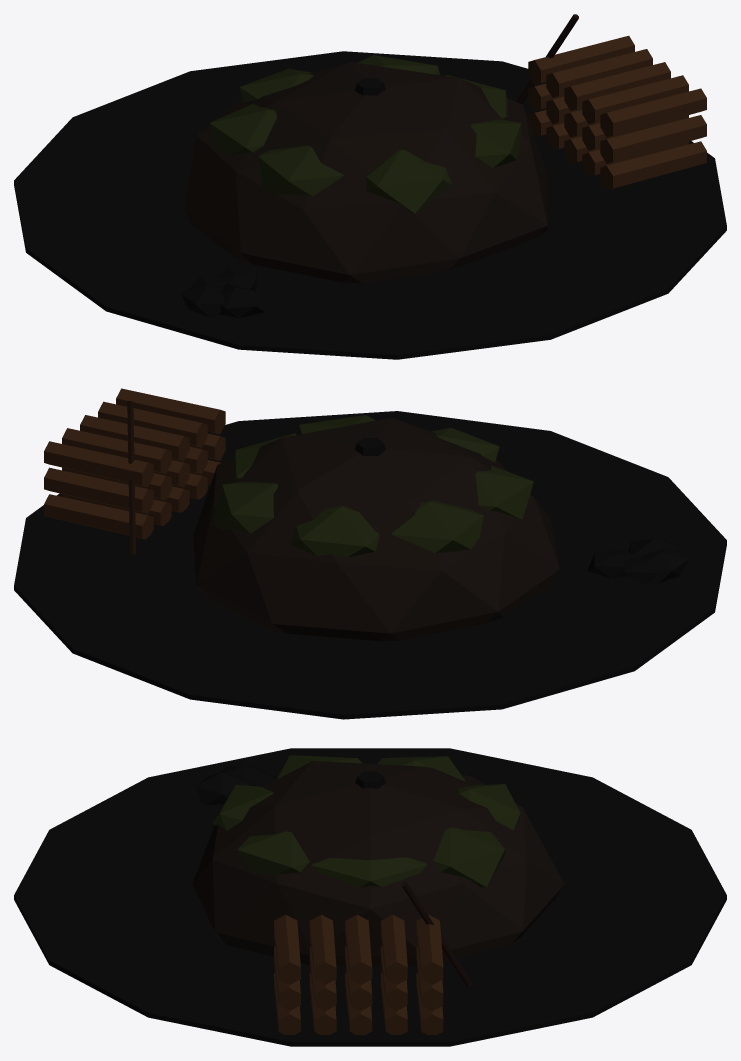
The model's file is charcoal_clamp.fbx.
3 renders of one model, top to bottom at view 1: azimuth 30°, elevation 25°; view 2: azimuth 150°, elevation 25°; view 3: azimuth 270°, elevation 25°, orthographic.
Visible parts, largest first — view 1: charcoal_clamp; view 2: charcoal_clamp; view 3: charcoal_clamp.
Part boxes in pixels (x1,y1,x2,y2): charcoal_clamp: (14,14,726,359); charcoal_clamp: (14,388,726,719); charcoal_clamp: (14,748,726,1046).
Bounding box in the file's own units: 8.19 × 2.84 × 8.4.
